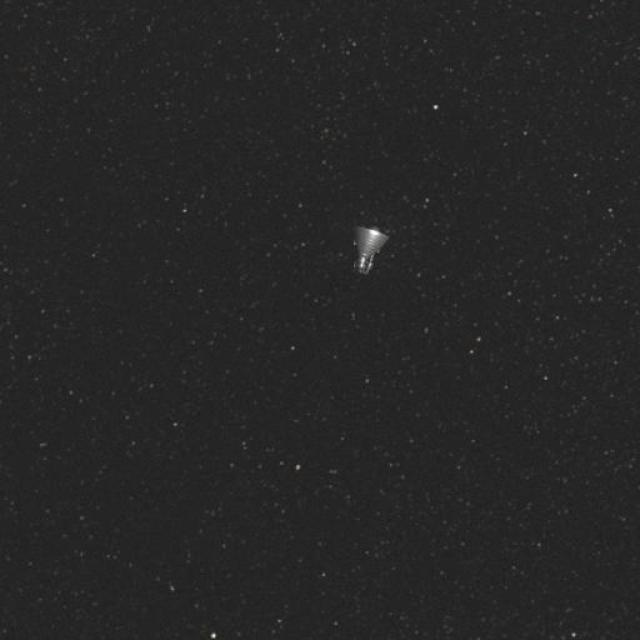debris: (344, 218, 392, 282)
